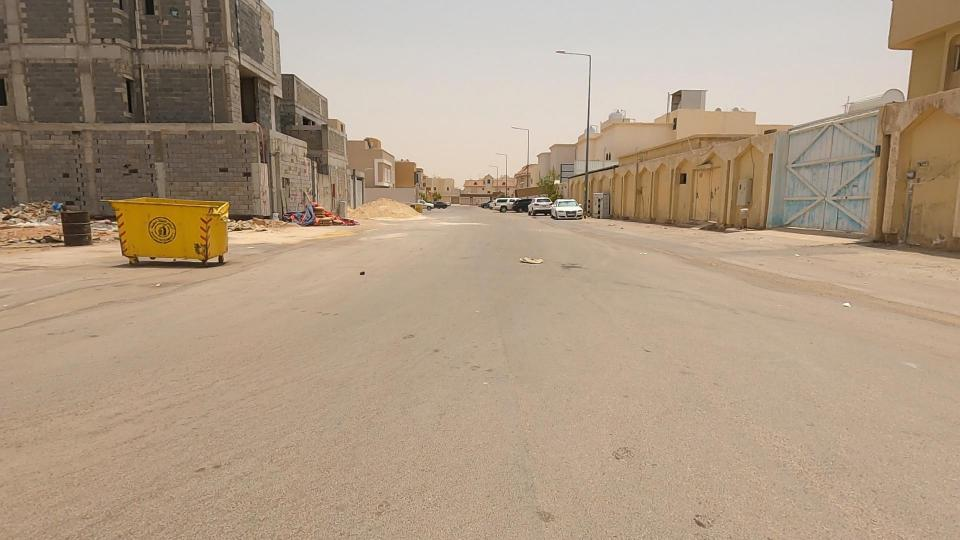GARBAGE: (0, 207, 96, 269), (482, 231, 580, 290), (0, 184, 92, 238), (274, 189, 361, 243), (65, 199, 126, 252), (826, 293, 866, 324)
SAND_ON_ROAD: (330, 171, 449, 250)
